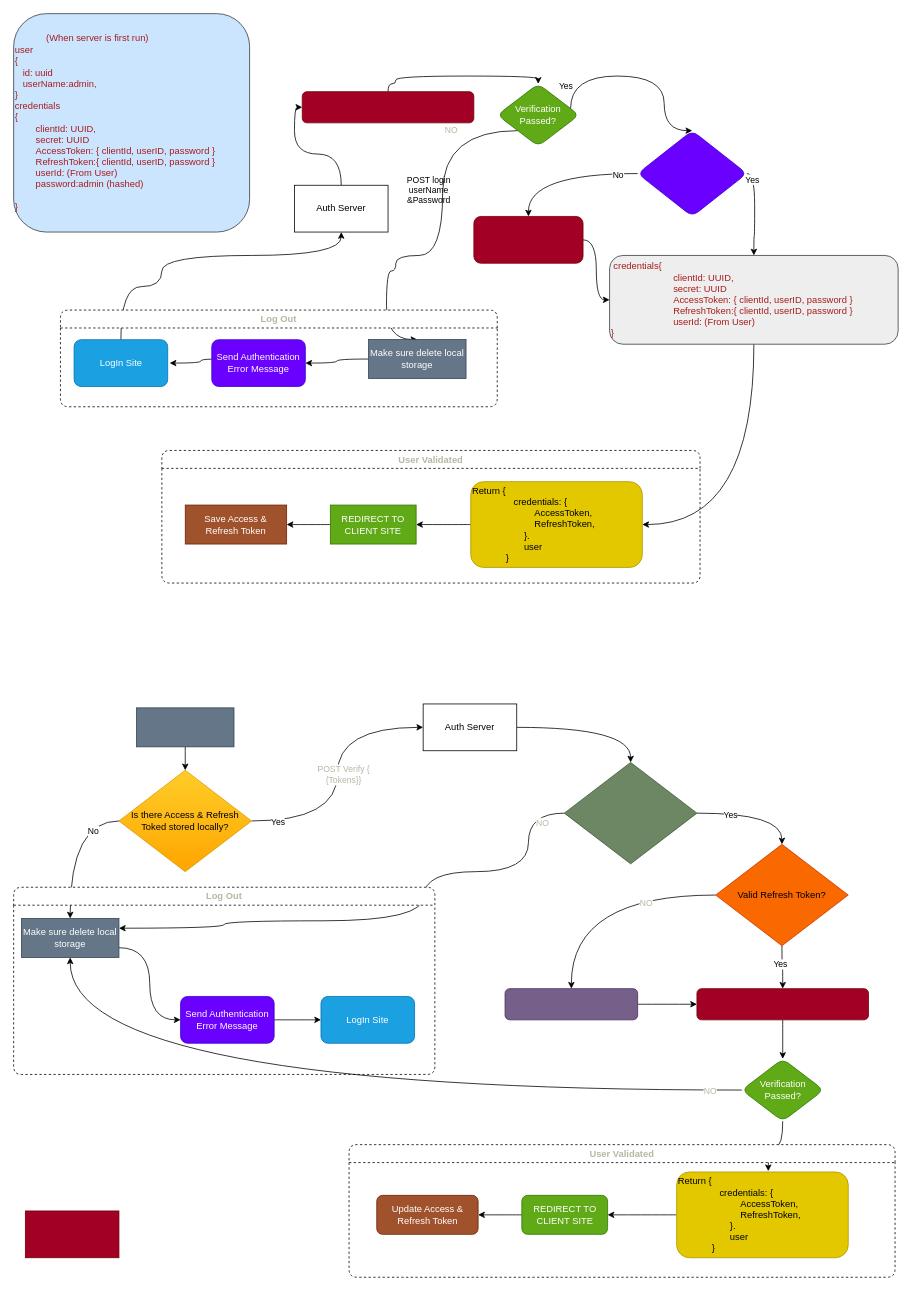
Image size: 912x1291. Some labels were removed from this diagram. Each missing label, with the centre of its shape:
Create credential in DB: the point at 528,239
Does user have an Client ID?: the point at 692,173
Refresh browser: the point at 185,727
Renew Acces Token: the point at 571,1004
Resource Server: the point at 72,1234
Valid Refresh Token and same from post and DB?: the point at 630,813
Verify UserName and Password In USERS DataBase: the point at 387,107
Verify UserName and Password In USERS DataBase (ClientId in Token): the point at 782,1004
